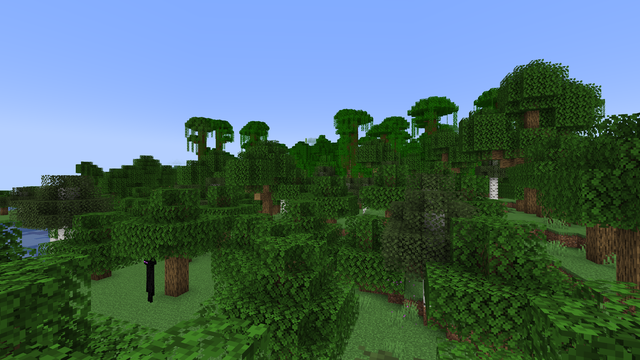endermens: (142, 264, 158, 303)
